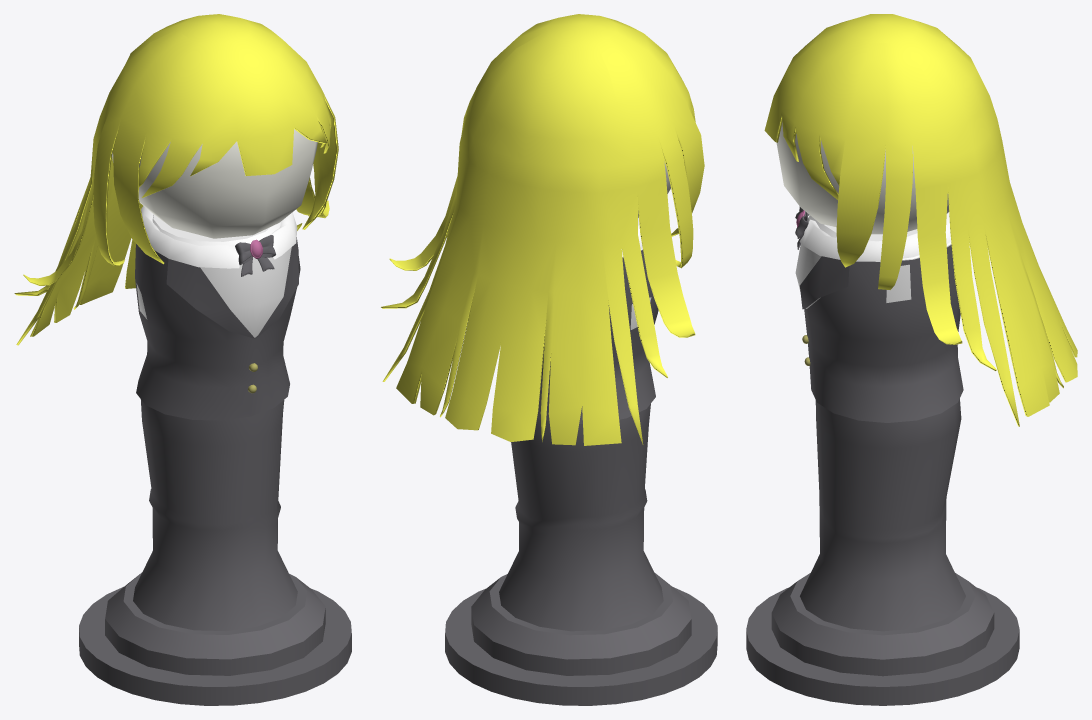
The model's file is OjyouModel 1.fbx.
3 views of the same model, side by side, from view 1: azimuth 30°, elevation 25°; view 2: azimuth 150°, elevation 25°; view 3: azimuth 270°, elevation 25° (orthographic).
Visible parts, largest first — view 1: pCylinder1; view 2: pCylinder1; view 3: pCylinder1.
Boxes of the visible parts, left/top/right/bottom form: pCylinder1: left=14, top=14, right=351, bottom=705; pCylinder1: left=381, top=14, right=717, bottom=705; pCylinder1: left=746, top=14, right=1077, bottom=705.
Size of the model in its own units: 97.53 by 191 by 91.72.
